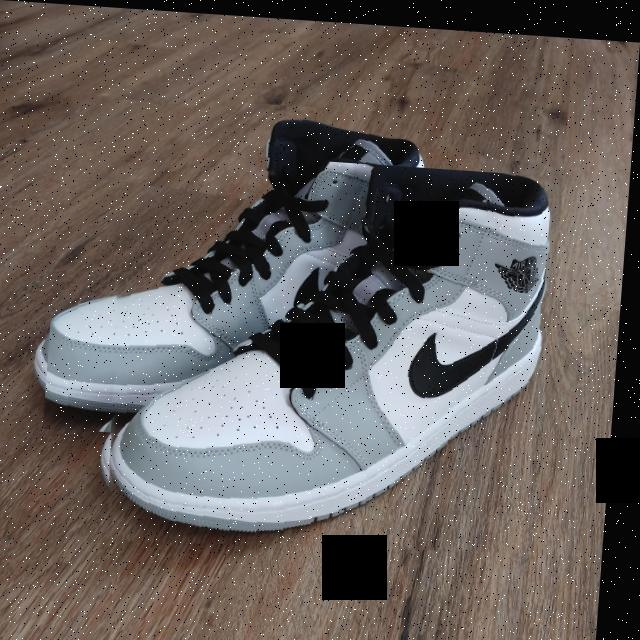shoe: (103, 147, 557, 561), (49, 90, 435, 447)
